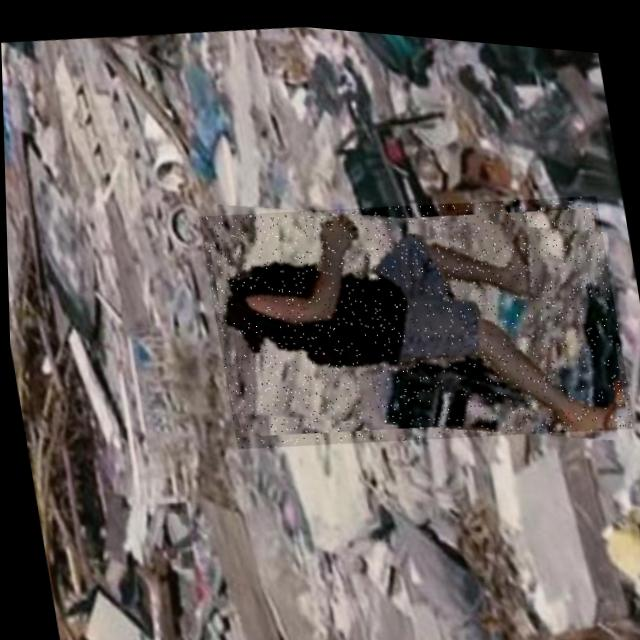Person in Rubble: (196, 156, 634, 472)
